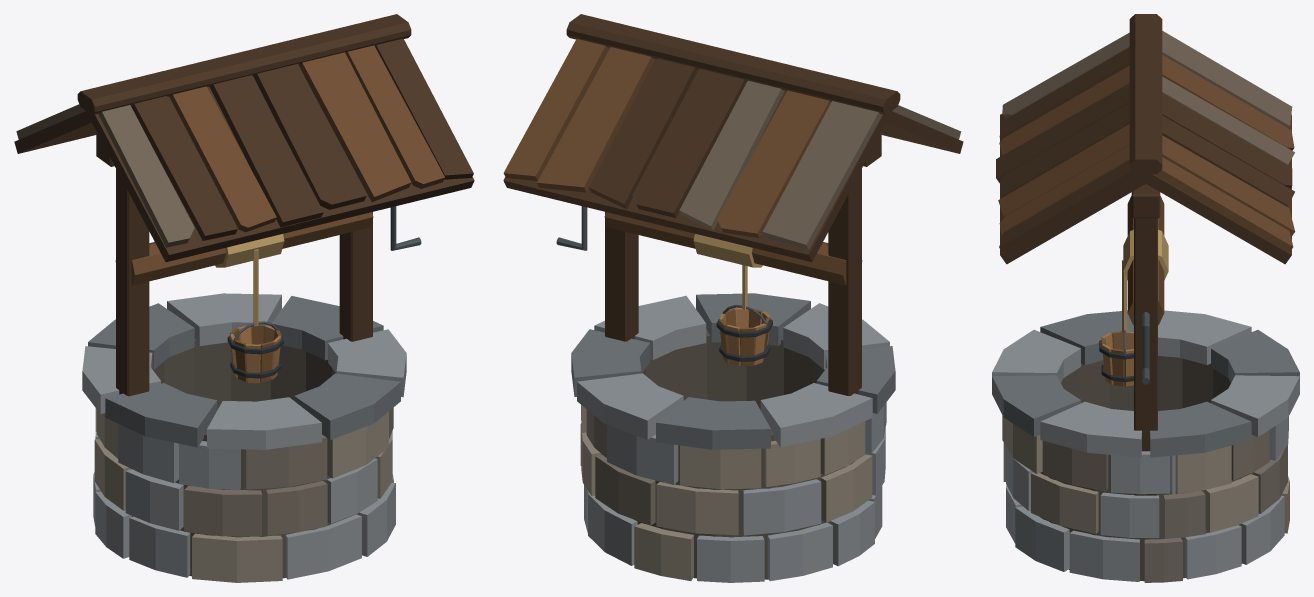
File: well-cover.glb
3 views of the same model, side by side, from view 1: azimuth 30°, elevation 25°; view 2: azimuth 150°, elevation 25°; view 3: azimuth 270°, elevation 25° (orthographic). The views are drawn at different scales.
Visible parts, largest first — view 1: mdvl_farm_well_cover_01_0; view 2: mdvl_farm_well_cover_01_0; view 3: mdvl_farm_well_cover_01_0.
Boxes of the visible parts, x1,y1,x2,y2 form: mdvl_farm_well_cover_01_0: (14,14,474,582); mdvl_farm_well_cover_01_0: (503,14,963,582); mdvl_farm_well_cover_01_0: (992,14,1299,582).
Bounding box in the file's own units: 1.79 × 2.38 × 1.52.
Materials: 1 (1 with a texture image).
